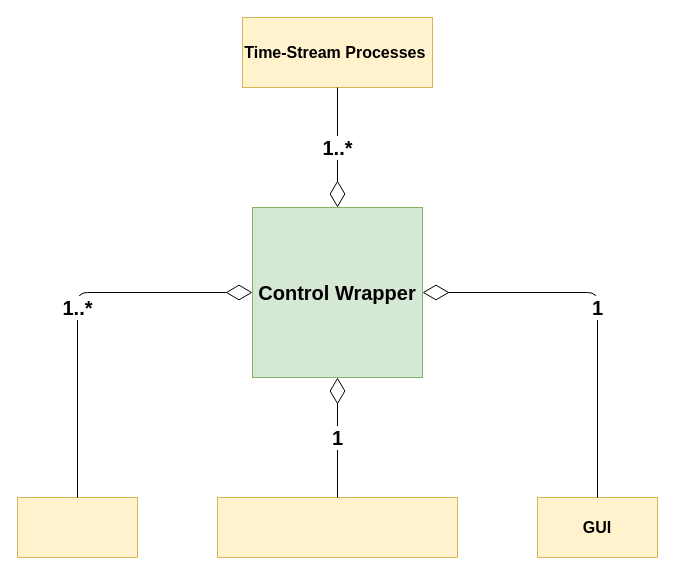
The diagram is 675 pixels wide and 575 high, and some of its shapes have lost their labels. The shapes that lost their labels are listed below. From the top down, each one's box as (x1, y1, x2, y2) in pixels, then its label:
(16, 496, 138, 558): Instrument Drivers
(216, 496, 458, 558): Control State-Machine
